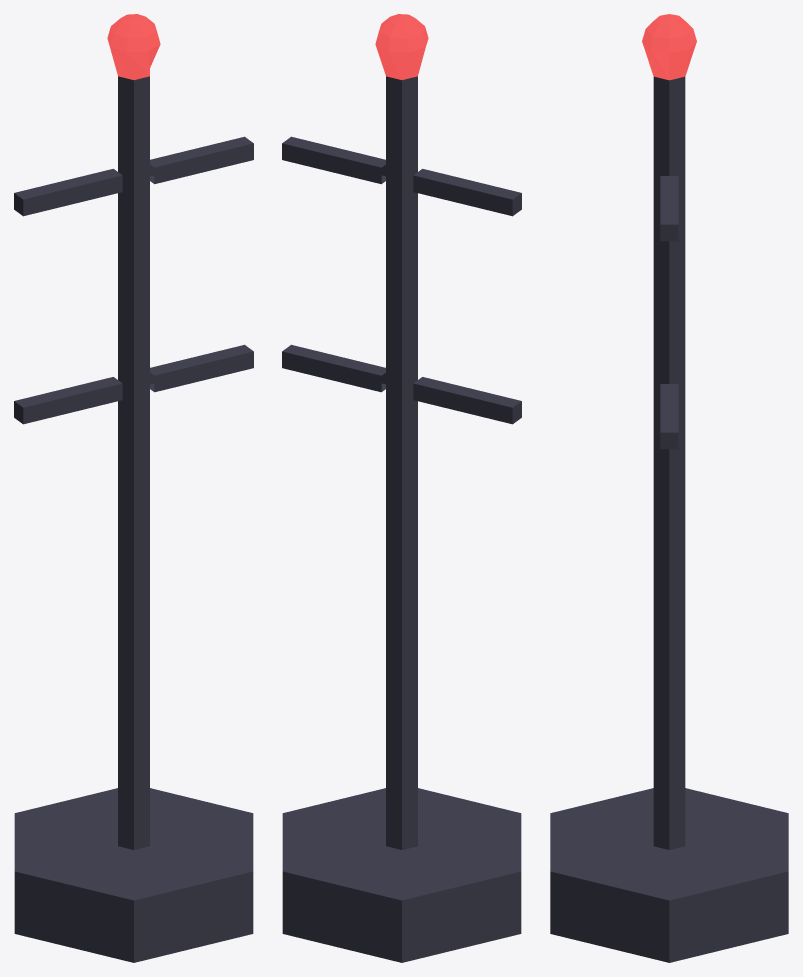
The model's file is prop_antenna.glb.
The picture shows the model from 3 angles, left to right: view 1: azimuth 30°, elevation 25°; view 2: azimuth 150°, elevation 25°; view 3: azimuth 270°, elevation 25°; orthographic projection.
Visible parts, largest first — view 1: prop_antenna; view 2: prop_antenna; view 3: prop_antenna.
Part boxes in pixels (left/top/right/bottom): prop_antenna: left=14, top=14, right=253, bottom=962; prop_antenna: left=282, top=14, right=521, bottom=962; prop_antenna: left=550, top=14, right=788, bottom=962.
Size of the model in its own units: 1.2 by 4.27 by 1.04.
